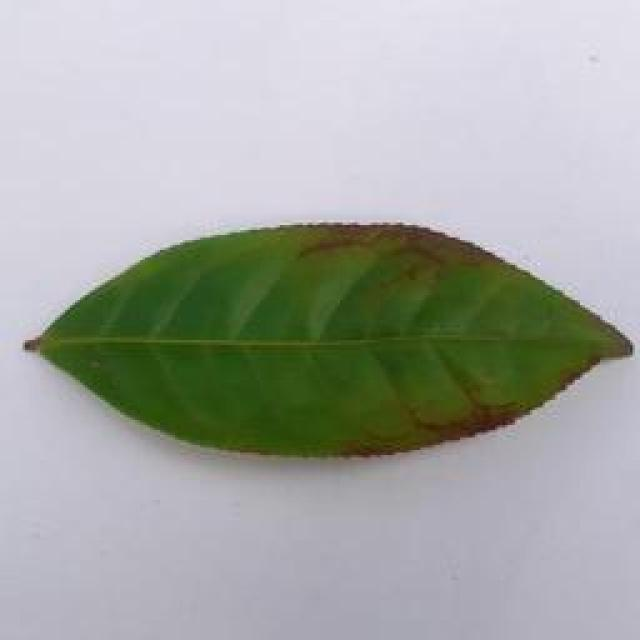Red Leaf Spot: (2, 222, 640, 450)
